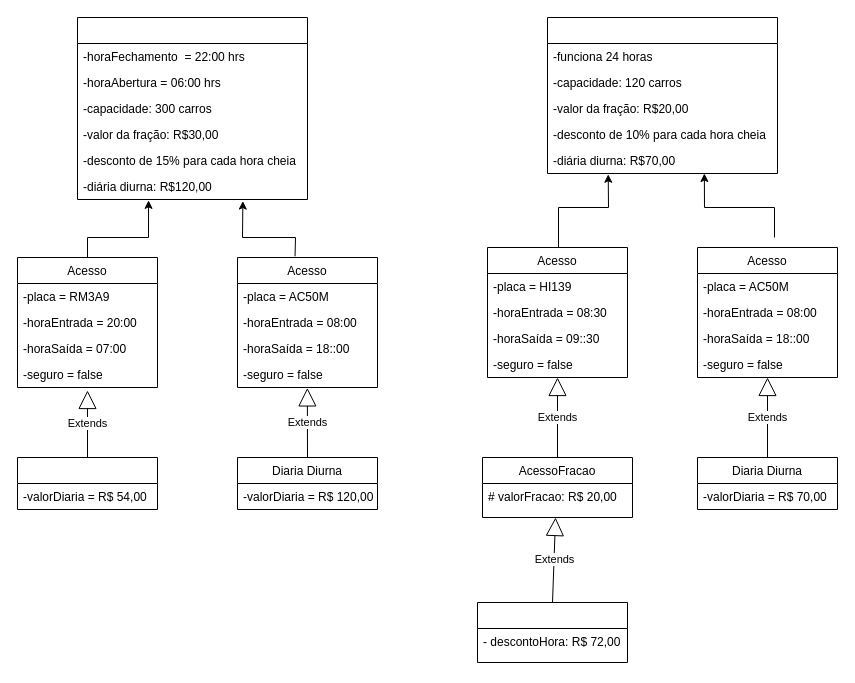
This 855x683 diagram has some shape labels left out. Each missing label, with the box of its shape:
AcessoHoraCheia: (476, 602, 628, 662)
Diaria Noturna: (16, 456, 158, 510)
Estacionamento 1: (76, 16, 308, 200)
Estacionamento 2: (546, 16, 778, 174)
